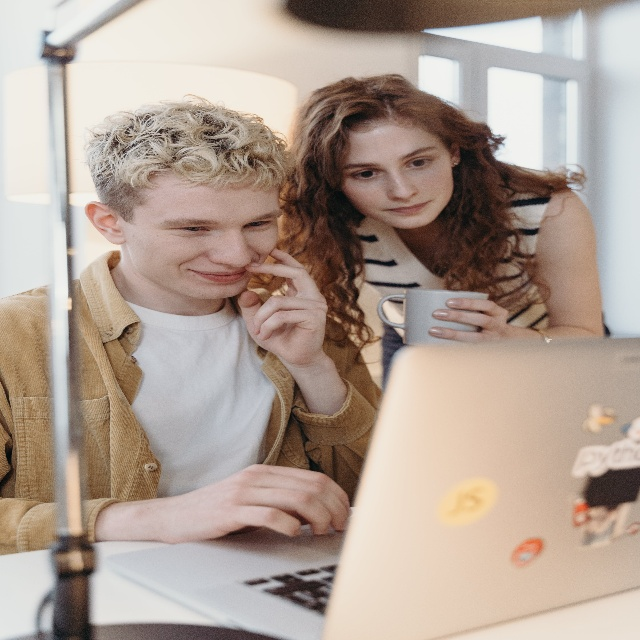Sin_guantes: (172, 466, 350, 539), (236, 254, 327, 361), (425, 292, 510, 335)
